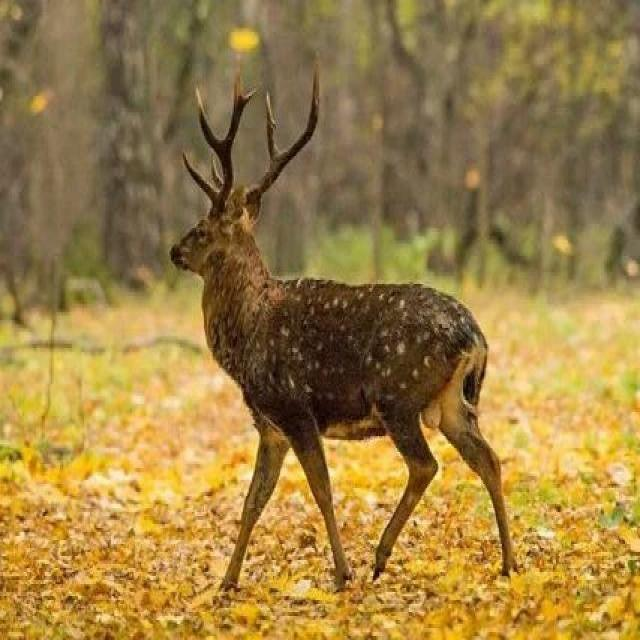deer: (124, 75, 494, 569)
